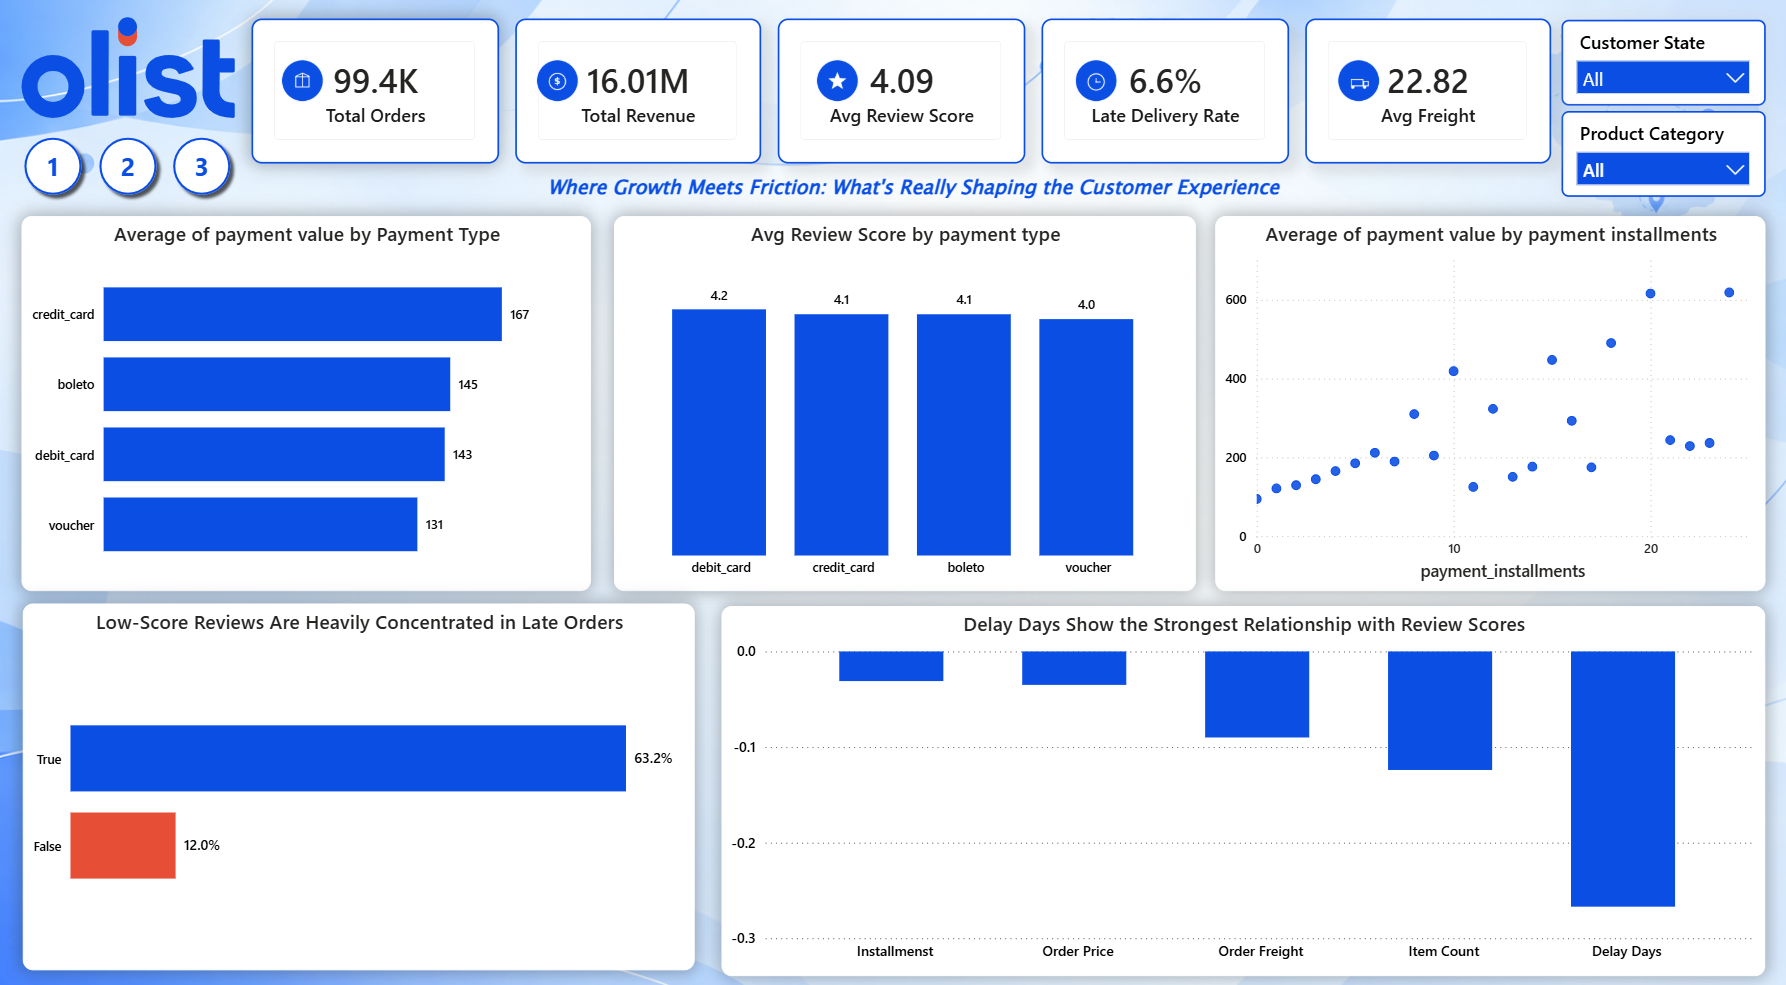

What the dashboard file says about the page in this screenshot:
{"tool":"powerbi","page":{"name":"Payment Behavior & Root Cause","canvas":[1715,950],"ordinal":2},"visuals":[{"type":"cardVisual","fields":{"Data":["Measures Table.Total Orders"]},"box":[242.2,21.6,237.5,139.1],"z":0,"group":"g2"},{"type":"cardVisual","fields":{"Data":["Measures Table.Total Revenue"]},"box":[495.3,21.6,235.9,139.1],"z":1000,"group":"g3"},{"type":"cardVisual","fields":{"Data":["Measures Table.Avg Review Score"]},"box":[746.9,21.6,237.5,139.1],"z":2000,"group":"g4"},{"type":"barChart","title":"Average of payment value by Payment Type","fields":{"Category":["olist_cleaned_data.payment_type"],"Y":["Avg(olist_cleaned_data.payment_value)"]},"box":[21.7,211.7,546.7,360],"z":5000},{"type":"cardVisual","fields":{"Data":["Measures Table.Late Delivery Rate"]},"box":[1000,21.6,237.5,139.1],"z":6000,"group":"g5"},{"type":"columnChart","title":"Avg Review Score by payment type","fields":{"Category":["olist_cleaned_data.payment_type"],"Y":["Measures Table.Avg Review Score"]},"box":[590,211.7,558.3,360],"z":6000},{"type":"cardVisual","fields":{"Data":["Measures Table.Avg Freight"]},"box":[1253.1,21.6,235.9,139.1],"z":7000,"group":"g6"},{"type":"scatterChart","title":"Average of payment value by payment installments","fields":{"X":["olist_cleaned_data.payment_installments"],"Y":["olist_cleaned_data.payment_value"]},"box":[1166.7,211.7,528.3,360],"z":7000},{"type":"clusteredBarChart","title":"Low-Score Reviews Are Heavily Concentrated in Late Orders","fields":{"Category":["olist_cleaned_data.is_late"],"Y":["Measures Table.Low Review Rate"]},"box":[23.3,583.3,645,352],"z":8000},{"type":"columnChart","title":"Delay Days Show the Strongest Relationship with Review Scores","fields":{"Y":["Sum(Root Cause Factors.Correlation)"],"Category":["Root Cause Factors.Factor"]},"box":[693.3,585,1001.7,355],"z":9000},{"type":"slicer","fields":{"Values":["olist_cleaned_data.customer_state"]},"box":[1499.5,22.6,195.8,82.8],"z":9006},{"type":"slicer","fields":{"Values":["olist_cleaned_data.product_category_name_english"]},"box":[1499.5,110.1,195.8,82.8],"z":9007},{"type":"textbox","box":[521.9,164.1,820.3,40.6],"z":9008},{"type":"image","box":[21.9,10.9,204.7,115.6],"z":9009},{"type":"group","id":"g1","title":"Group 1","box":[17.2,128.5,213.3,70],"z":9010},{"type":"group","id":"g2","title":"Group 2","box":[242.2,21.6,237.5,139.1],"z":9011},{"type":"group","id":"g3","title":"Group 3","box":[495.3,21.6,235.9,139.1],"z":9012},{"type":"group","id":"g4","title":"Group 4","box":[746.9,21.6,237.5,139.1],"z":9013},{"type":"group","id":"g5","title":"Group 5","box":[1000,21.6,237.5,139.1],"z":9014},{"type":"group","id":"g6","title":"Group 6","box":[1253.1,21.6,235.9,139.1],"z":9015},{"type":"shape","box":[17.2,128.5,70,70],"z":13000,"group":"g1"},{"type":"shape","box":[88.8,128.5,70,70],"z":14000,"group":"g1"},{"type":"image","box":[513.3,58.4,45,45],"z":14001,"group":"g3"},{"type":"image","box":[268.3,58.4,45,45],"z":14002,"group":"g2"},{"type":"image","box":[781.7,58.4,45,45],"z":14003,"group":"g4"},{"type":"image","box":[1030,58.4,45,45],"z":14004,"group":"g5"},{"type":"image","box":[1281.6,58.4,45,45],"z":14005,"group":"g6"},{"type":"shape","box":[160.5,128.5,70,70],"z":15000,"group":"g1"}]}

Visuals, with their boxes in screenshot pixels (x1, y1, x2, y2), scaled from the page's 1715x950 canvas onto the 1786x985 screenshot:
cardVisual - Measures Table.Total Orders: box=[252, 22, 500, 167]
cardVisual - Measures Table.Total Revenue: box=[516, 22, 761, 167]
cardVisual - Measures Table.Avg Review Score: box=[778, 22, 1025, 167]
"Average of payment value by Payment Type" barChart: box=[23, 219, 592, 593]
cardVisual - Measures Table.Late Delivery Rate: box=[1041, 22, 1289, 167]
"Avg Review Score by payment type" columnChart: box=[614, 219, 1196, 593]
cardVisual - Measures Table.Avg Freight: box=[1305, 22, 1551, 167]
"Average of payment value by payment installments" scatterChart: box=[1215, 219, 1765, 593]
"Low-Score Reviews Are Heavily Concentrated in Late Orders" clusteredBarChart: box=[24, 605, 696, 970]
"Delay Days Show the Strongest Relationship with Review Scores" columnChart: box=[722, 607, 1765, 975]
slicer - olist_cleaned_data.customer_state: box=[1562, 23, 1765, 109]
slicer - olist_cleaned_data.product_category_name_english: box=[1562, 114, 1765, 200]
textbox: box=[544, 170, 1398, 212]
image: box=[23, 11, 236, 131]
"Group 1" group: box=[18, 133, 240, 206]
"Group 2" group: box=[252, 22, 500, 167]
"Group 3" group: box=[516, 22, 761, 167]
"Group 4" group: box=[778, 22, 1025, 167]
"Group 5" group: box=[1041, 22, 1289, 167]
"Group 6" group: box=[1305, 22, 1551, 167]
shape: box=[18, 133, 91, 206]
shape: box=[92, 133, 165, 206]
image: box=[535, 61, 581, 107]
image: box=[279, 61, 326, 107]
image: box=[814, 61, 861, 107]
image: box=[1073, 61, 1120, 107]
image: box=[1335, 61, 1382, 107]
shape: box=[167, 133, 240, 206]
